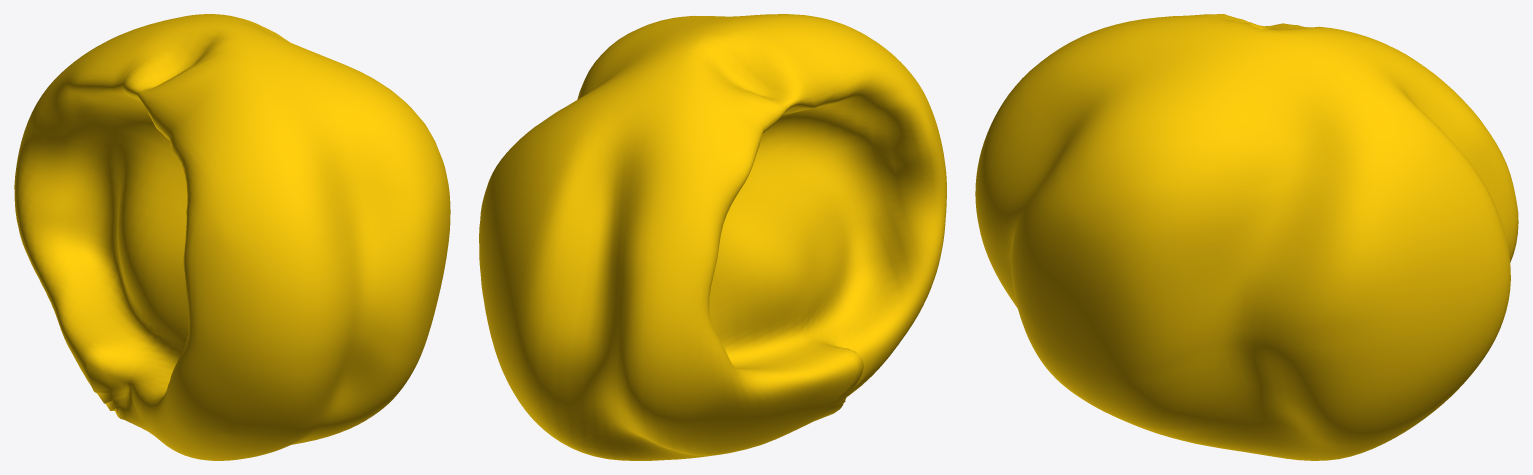
The model's file is anther_2.fbx.
3 views of the same model, side by side, from view 1: azimuth 30°, elevation 25°; view 2: azimuth 150°, elevation 25°; view 3: azimuth 270°, elevation 25° (orthographic).
Parts seen in each view (by area): view 1: anther2; view 2: anther2; view 3: anther2.
Boxes of the visible parts, x1,y1,x2,y2 form: anther2: (14, 14, 450, 460); anther2: (479, 14, 946, 460); anther2: (975, 14, 1518, 460).
Bounding box in the file's own units: 3.01 × 3.54 × 4.27.
